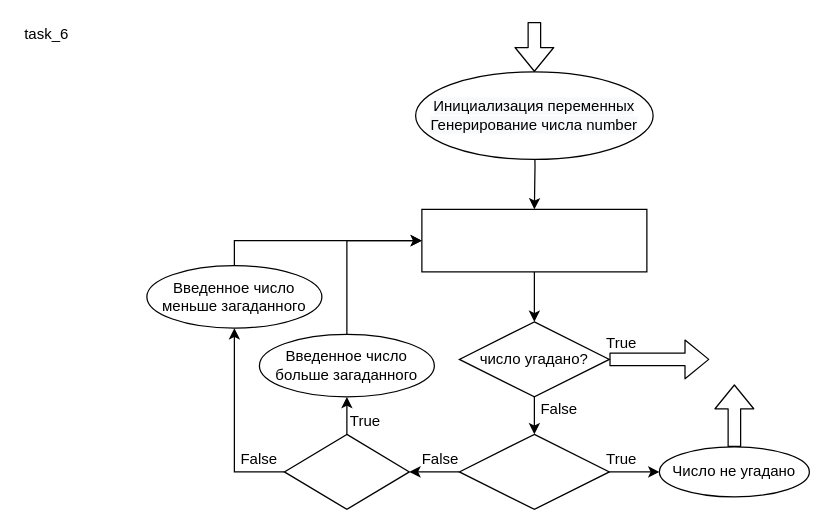
The diagram is 831 pixels wide and 531 high, and some of its shapes have lost their labels. Each missing label, with the centre of its shape:
"count >= 10" belongs at (x=533, y=471).
"number < num" belongs at (x=346, y=471).
"Пользовательский ввод num, попытка номер count" belongs at (x=534, y=240).
